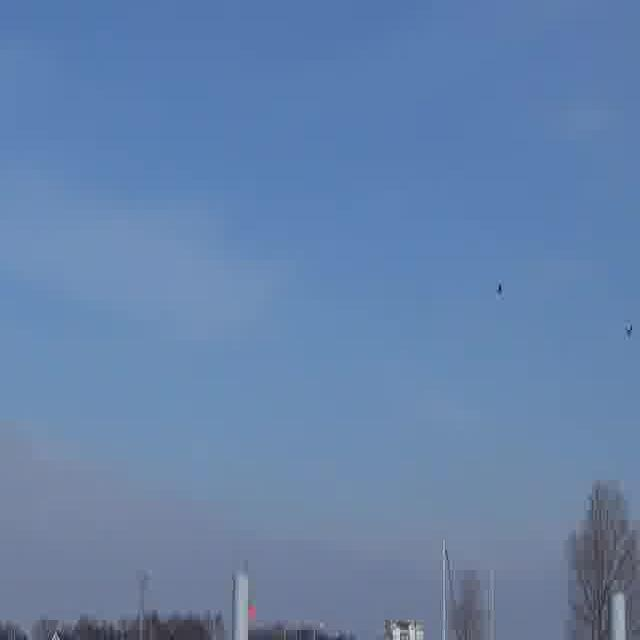bird: (487, 278, 512, 300), (620, 318, 634, 342)
